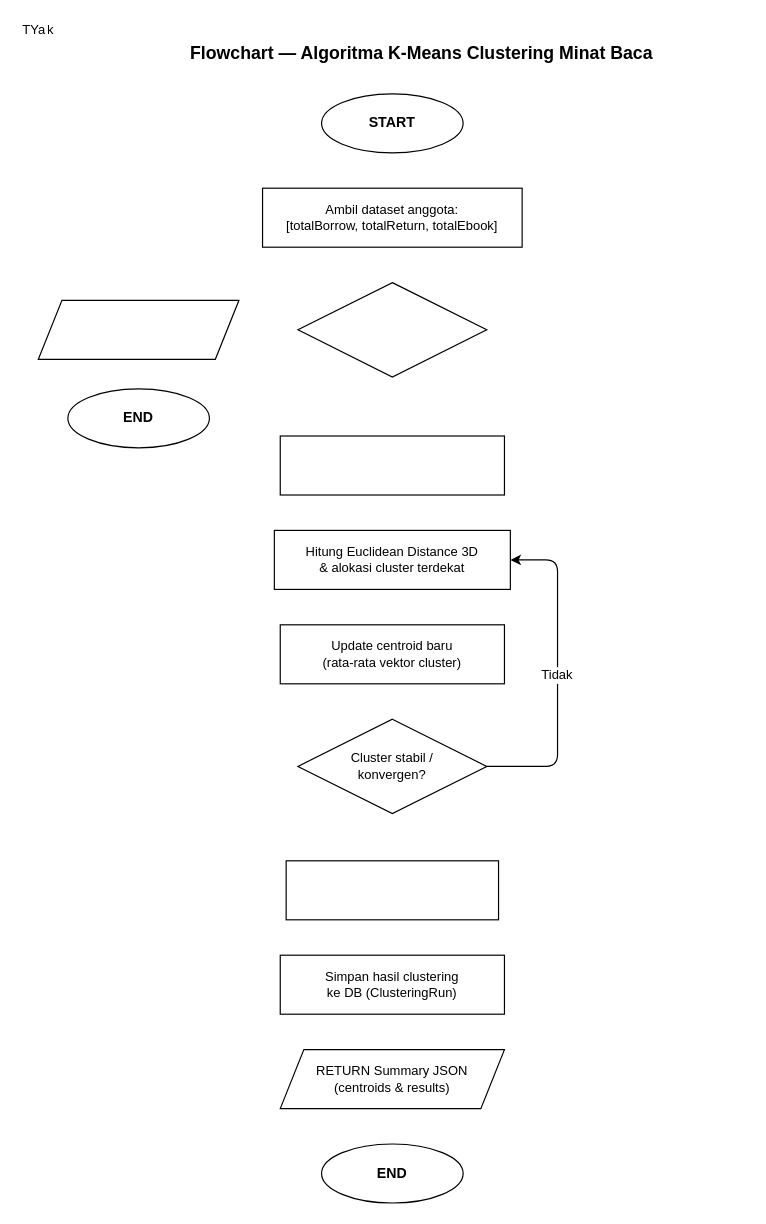
Some shapes in this 766 by 1224 pixel diagram are drawn without their labels. The centre of each missing label's shape, as x and y in pixels:
Dataset anggota tersedia (> 0)?: point 392,329
Mapping label cluster: Tinggi, Sedang, Rendah: point 392,890
Throw Error "Data anggota belum tersedia": point 138,329
Urutkan data komposit & set centroid awal (K=3): point 391,465
